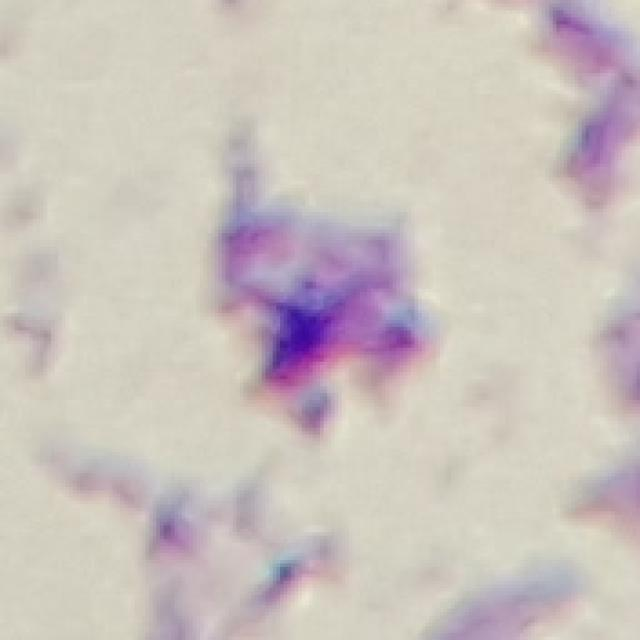non-sperm: (189, 156, 431, 456)
